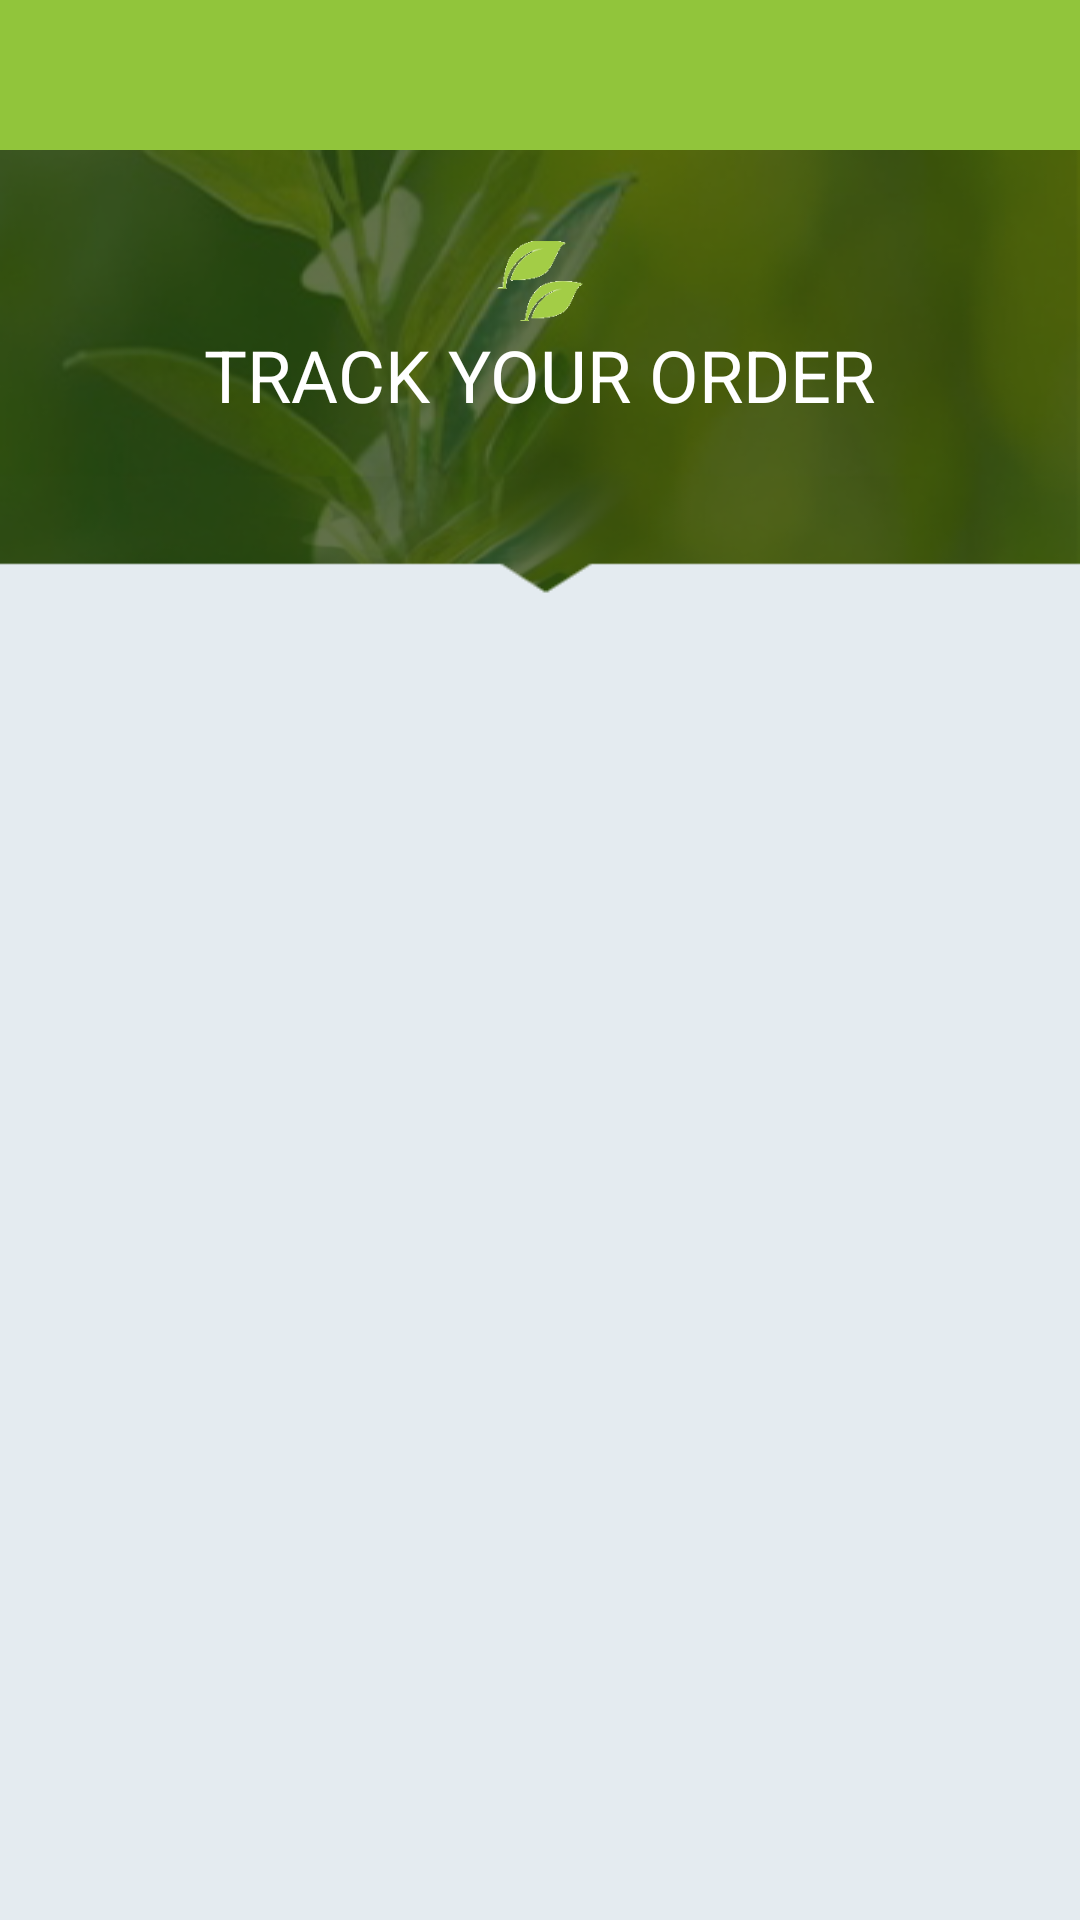

Icons on this 1080*1920 Android screen, each with the point to tap as [x,y]:
page nameleaf: [540,281]
